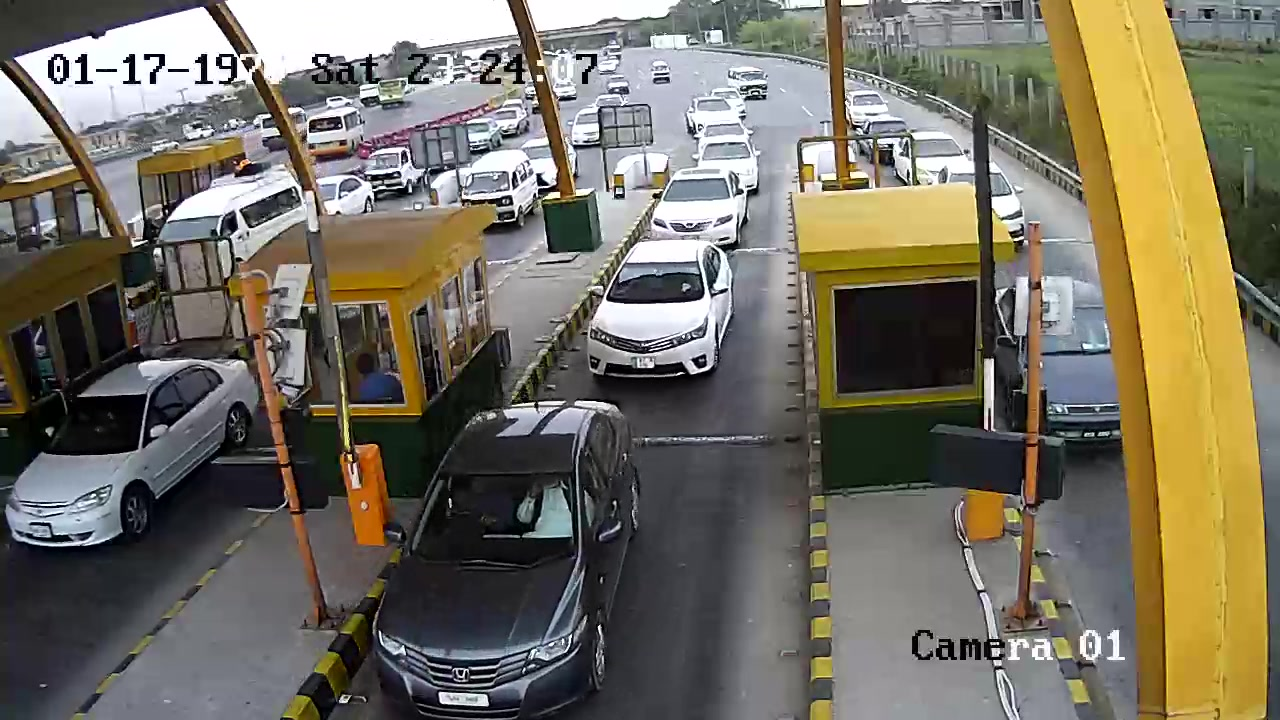F1: (373, 399, 650, 713), (564, 233, 735, 384)
